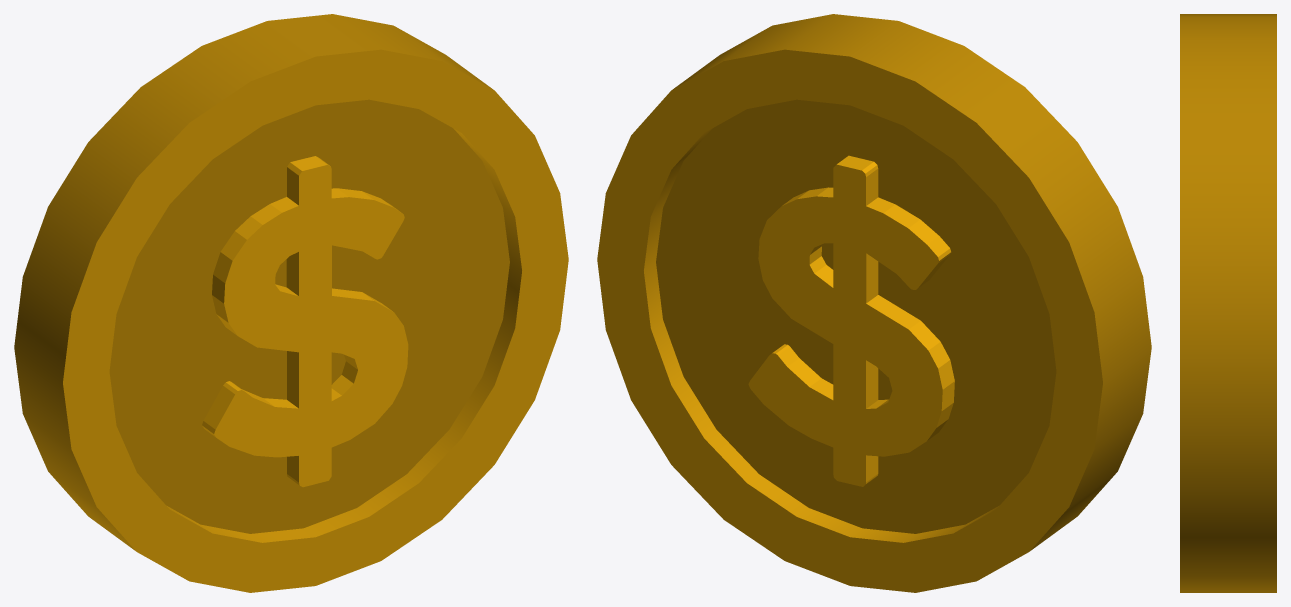
Rendered from coin.fbx.
The picture shows the model from 3 angles, left to right: view 1: azimuth 30°, elevation 25°; view 2: azimuth 150°, elevation 25°; view 3: azimuth 270°, elevation 25°; orthographic projection.
Visible parts, largest first — view 1: coin; view 2: coin; view 3: coin.
Part boxes in pixels (bbox=[...]): coin: bbox=[14, 14, 568, 592]; coin: bbox=[597, 14, 1151, 592]; coin: bbox=[1180, 14, 1276, 592].
Size of the model in its own units: 0.24 by 0.04 by 0.24.
